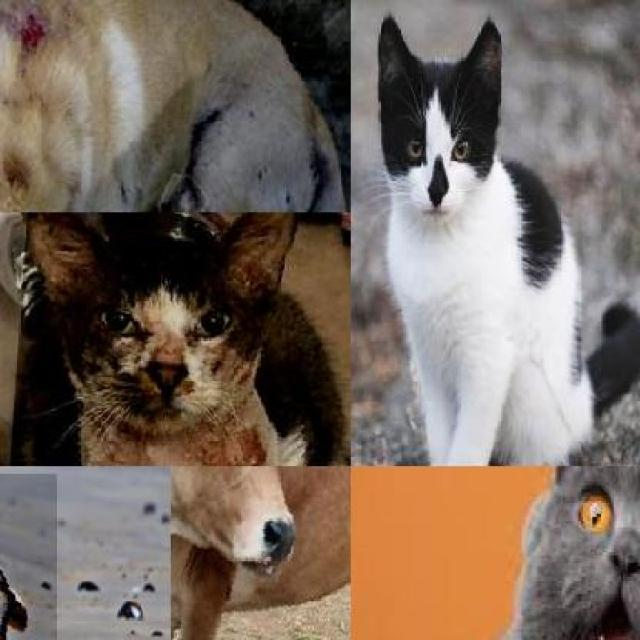cat: (368, 16, 635, 467), (0, 212, 351, 466), (497, 466, 640, 640)
cow: (171, 466, 351, 640)
dog: (0, 0, 351, 212), (0, 474, 57, 640)
injured: (14, 0, 123, 115), (163, 408, 285, 466)
